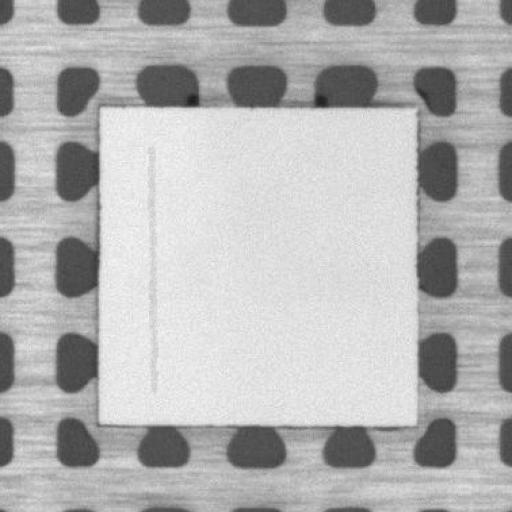DIE_CRACK: (138, 138, 160, 394)
